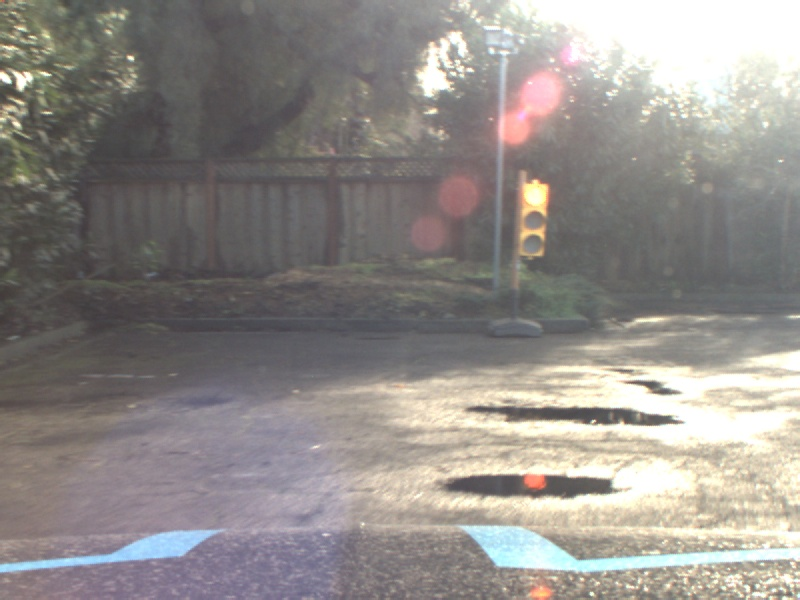Red: (517, 181, 547, 257)
